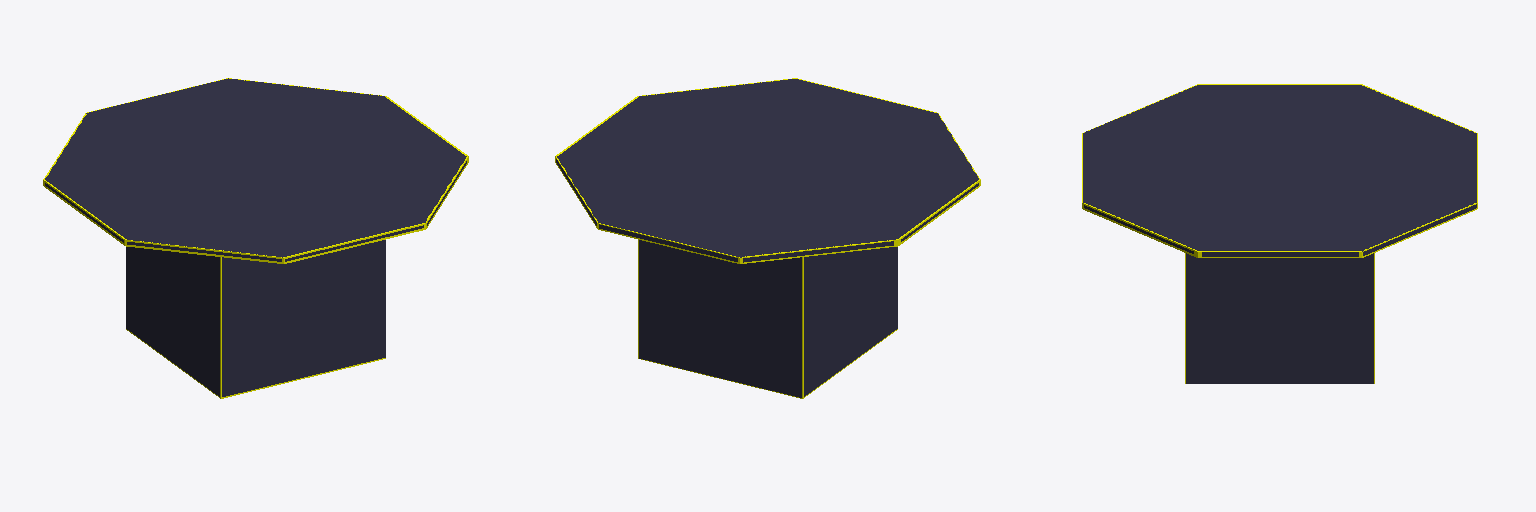
3 renders of one model, left to right at view 1: azimuth 30°, elevation 25°; view 2: azimuth 150°, elevation 25°; view 3: azimuth 270°, elevation 25°, orthographic.
Parts seen in each view (by area): view 1: Cylinder2, Cube1; view 2: Cylinder2, Cube1; view 3: Cylinder2, Cube1.
Part boxes in pixels (left/top/right/bottom): Cylinder2: left=43, top=78, right=468, bottom=263; Cube1: left=126, top=240, right=385, bottom=398; Cylinder2: left=555, top=78, right=980, bottom=263; Cube1: left=638, top=240, right=897, bottom=398; Cylinder2: left=1082, top=84, right=1477, bottom=257; Cube1: left=1185, top=253, right=1374, bottom=383.
Bounding box in the file's own units: 16.63 × 8.15 × 16.63.
Materials: 2 (2 with a texture image).